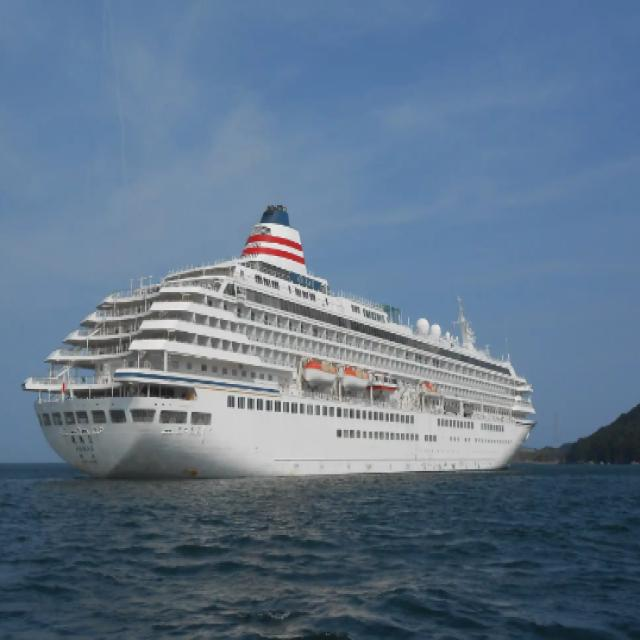passenger ship: (14, 145, 542, 481)
